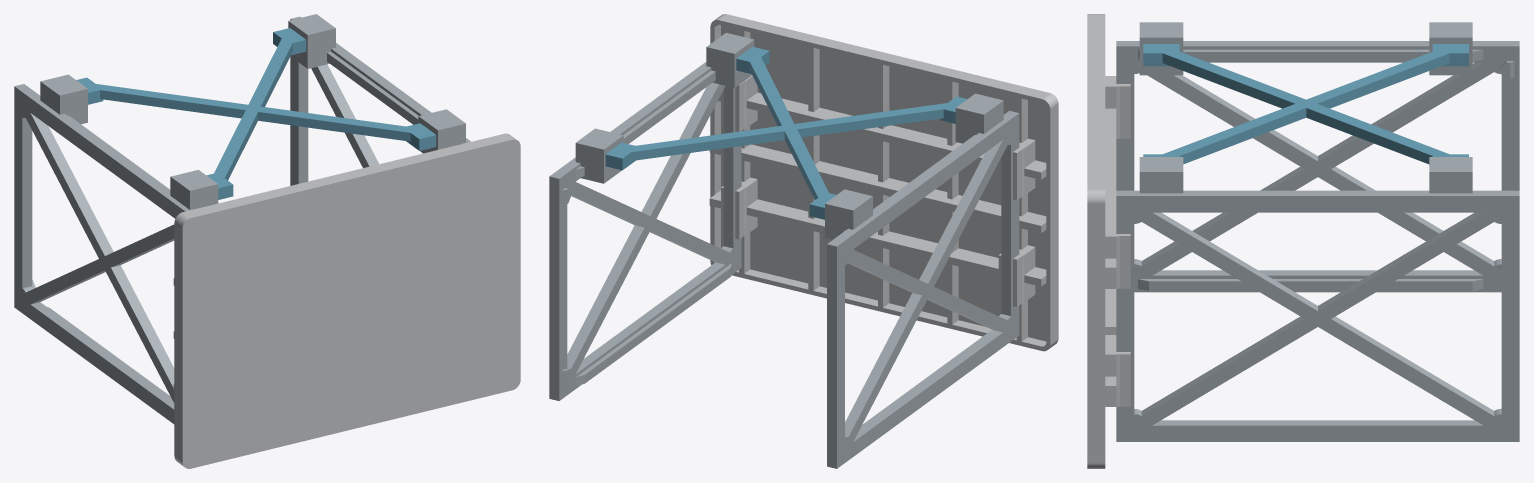
The model's file is V10_CONCEPT_ONLY.glb.
The picture shows the model from 3 angles, left to right: view 1: azimuth 30°, elevation 25°; view 2: azimuth 150°, elevation 25°; view 3: azimuth 270°, elevation 25°; orthographic projection. The views are drawn at different scales.
Parts seen in each view (by area): view 1: top, left, right, brace; view 2: top, left, right, brace; view 3: right, left, top, brace.
Boxes of the visible parts, bbox=[...] form: top: bbox=[173, 133, 520, 468]; left: bbox=[14, 74, 218, 423]; right: bbox=[288, 14, 470, 185]; brace: bbox=[76, 28, 436, 199]; top: bbox=[709, 14, 1058, 351]; left: bbox=[825, 93, 1019, 468]; right: bbox=[549, 32, 754, 400]; brace: bbox=[605, 47, 967, 219]; right: bbox=[1116, 157, 1519, 441]; left: bbox=[1116, 22, 1519, 292]; top: bbox=[1087, 14, 1130, 468]; brace: bbox=[1143, 44, 1468, 164].
Size of the model in its own units: 240 by 173 by 239.
